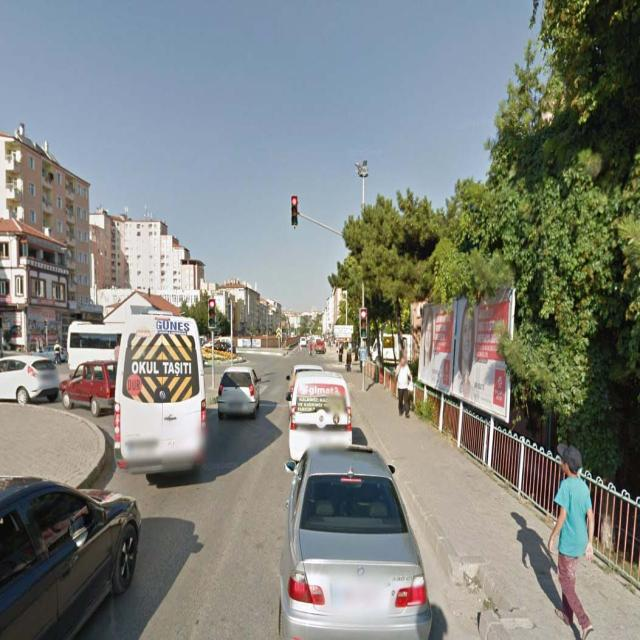kirmizi: (207, 297, 215, 329), (360, 308, 367, 338), (292, 195, 298, 226)
